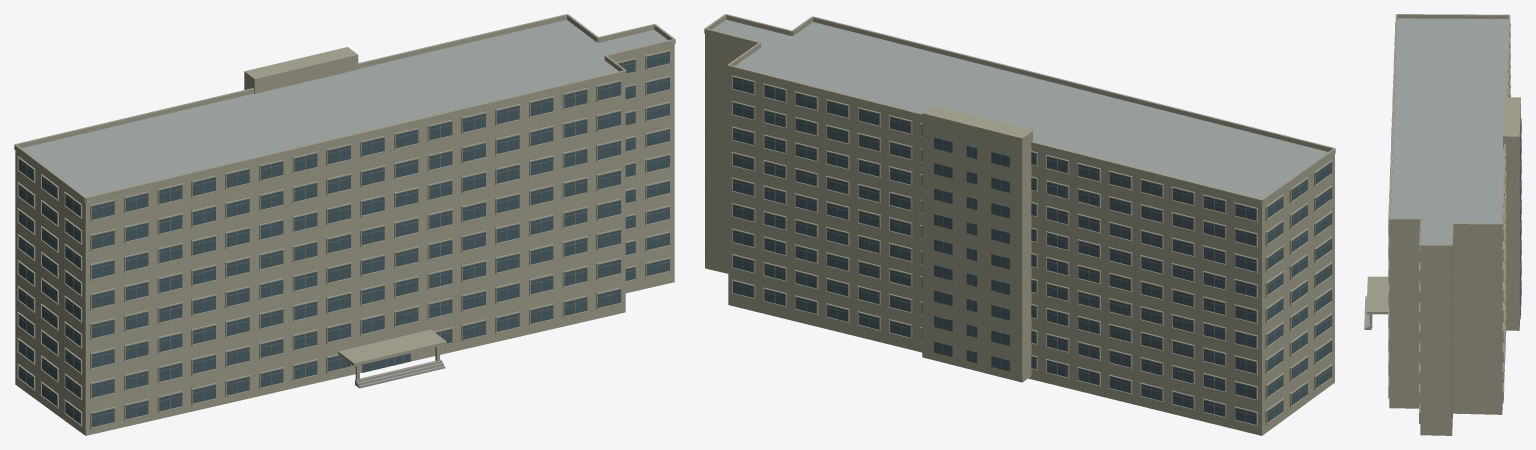
File: it1-418-fractured-render.glb
3 views of the same model, side by side, from view 1: azimuth 30°, elevation 25°; view 2: azimuth 150°, elevation 25°; view 3: azimuth 270°, elevation 25° (orthographic). The views are drawn at different scales.
Parts seen in each view (by area): view 1: IT1_F003_RENDER, IT1_F051_RENDER, IT1_F035_RENDER, IT1_F043_RENDER, IT1_F019_RENDER, IT1_F011_RENDER, IT1_F027_RENDER, IT1_F002_RENDER, IT1_F001_RENDER, IT1_F000_RENDER, IT1_F007_RENDER, IT1_F024_RENDER (+31 smaller); view 2: IT1_F007_RENDER, IT1_F031_RENDER, IT1_F015_RENDER, IT1_F055_RENDER, IT1_F023_RENDER, IT1_F047_RENDER, IT1_F039_RENDER, IT1_F006_RENDER, IT1_F005_RENDER, IT1_F004_RENDER, IT1_F003_RENDER, IT1_F030_RENDER (+31 smaller); view 3: IT1_F059_RENDER, IT1_F063_RENDER, IT1_F039_RENDER, IT1_F062_RENDER, IT1_F061_RENDER, IT1_F060_RENDER, IT1_F058_RENDER, IT1_F057_RENDER, IT1_F056_RENDER, IT1_F031_RENDER, IT1_F007_RENDER, IT1_F003_RENDER (+15 smaller).
Part boxes in pixels (x1,y1,x2,y2): IT1_F003_RENDER: [49, 158, 162, 262]; IT1_F051_RENDER: [507, 50, 619, 154]; IT1_F035_RENDER: [355, 86, 466, 190]; IT1_F043_RENDER: [431, 68, 542, 172]; IT1_F019_RENDER: [203, 122, 314, 226]; IT1_F011_RENDER: [127, 140, 238, 243]; IT1_F027_RENDER: [279, 104, 390, 208]; IT1_F002_RENDER: [49, 236, 162, 321]; IT1_F001_RENDER: [49, 296, 162, 381]; IT1_F000_RENDER: [49, 355, 162, 435]; IT1_F007_RENDER: [14, 126, 125, 235]; IT1_F024_RENDER: [314, 310, 407, 388]; IT1_F007_RENDER: [1187, 160, 1299, 263]; IT1_F031_RENDER: [958, 104, 1077, 211]; IT1_F015_RENDER: [1114, 141, 1224, 244]; IT1_F055_RENDER: [746, 49, 856, 151]; IT1_F023_RENDER: [1040, 123, 1150, 226]; IT1_F047_RENDER: [820, 67, 929, 170]; IT1_F039_RENDER: [893, 86, 1003, 195]; IT1_F006_RENDER: [1187, 238, 1299, 321]; IT1_F005_RENDER: [1187, 296, 1299, 380]; IT1_F004_RENDER: [1187, 355, 1299, 435]; IT1_F003_RENDER: [1225, 129, 1335, 237]; IT1_F030_RENDER: [958, 196, 1041, 270]; IT1_F059_RENDER: [1388, 216, 1445, 295]; IT1_F063_RENDER: [1445, 216, 1503, 295]; IT1_F039_RENDER: [1448, 122, 1520, 206]; IT1_F062_RENDER: [1445, 273, 1503, 342]; IT1_F061_RENDER: [1445, 316, 1503, 389]; IT1_F060_RENDER: [1445, 363, 1503, 435]; IT1_F058_RENDER: [1388, 269, 1444, 342]; IT1_F057_RENDER: [1388, 315, 1444, 389]; IT1_F056_RENDER: [1388, 361, 1444, 435]; IT1_F031_RENDER: [1449, 97, 1521, 176]; IT1_F007_RENDER: [1452, 14, 1510, 91]; IT1_F003_RENDER: [1394, 14, 1452, 49].
Size of the model in its own units: 2.81 by 1.12 by 0.8076.
Materials: 7 (2 with a texture image).
